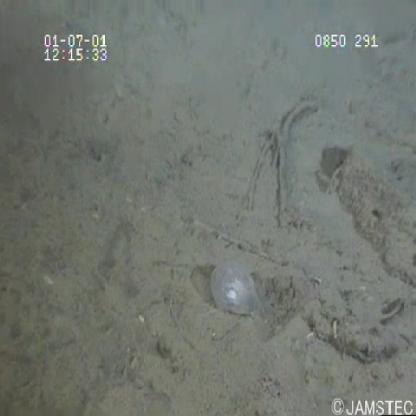Rác: (206, 241, 270, 334)
